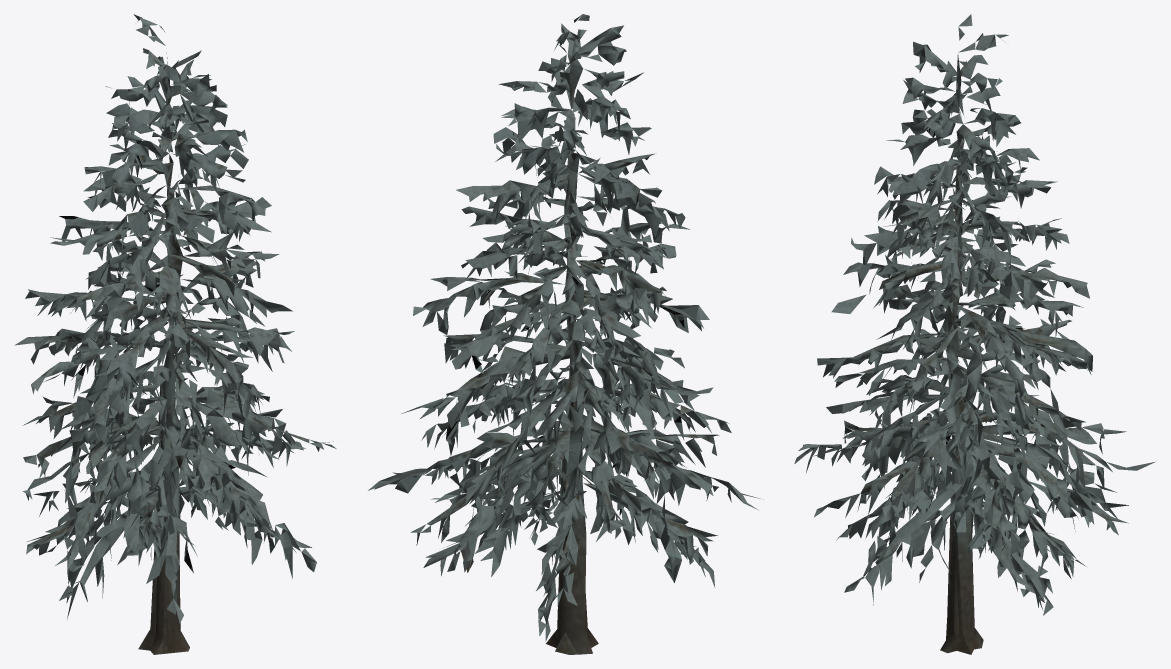
The model's file is conifer_large.glb.
3 views of the same model, side by side, from view 1: azimuth 30°, elevation 25°; view 2: azimuth 150°, elevation 25°; view 3: azimuth 270°, elevation 25° (orthographic). The views are drawn at different scales.
Visible parts, largest first — view 1: output_unwrapped; view 2: output_unwrapped; view 3: output_unwrapped.
Boxes of the visible parts, x1,y1,x2,y2 form: output_unwrapped: [14, 14, 336, 654]; output_unwrapped: [368, 14, 763, 654]; output_unwrapped: [794, 14, 1155, 654].
Bounding box in the file's own units: 0.9461 × 1.81 × 0.9588.
1 material, 1 textured.
